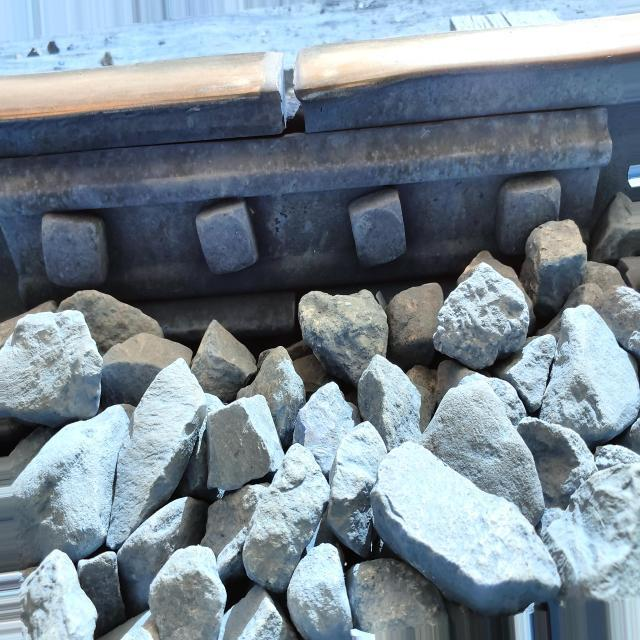Good Joint: (0, 105, 610, 290)
